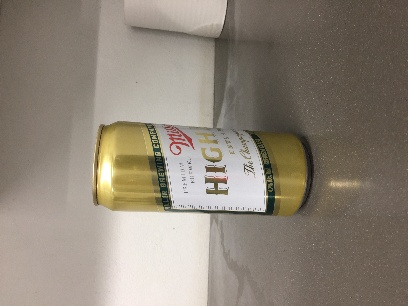ML: (68, 87, 228, 159)
